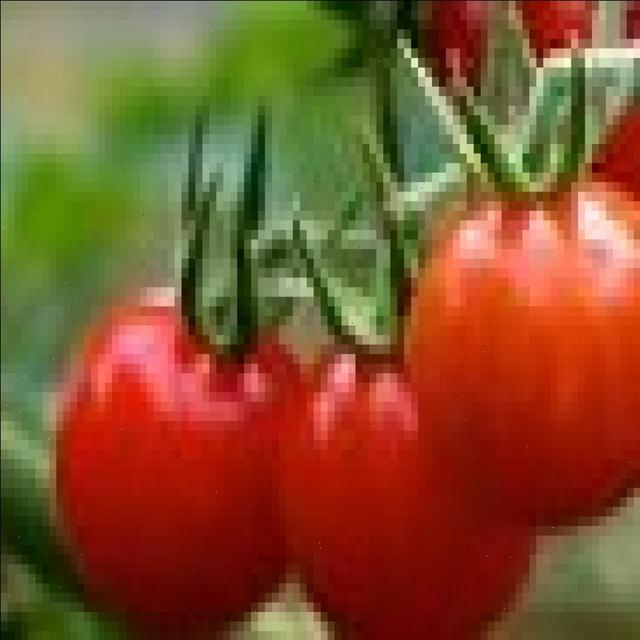Healthy Fruit: (114, 207, 352, 317)
